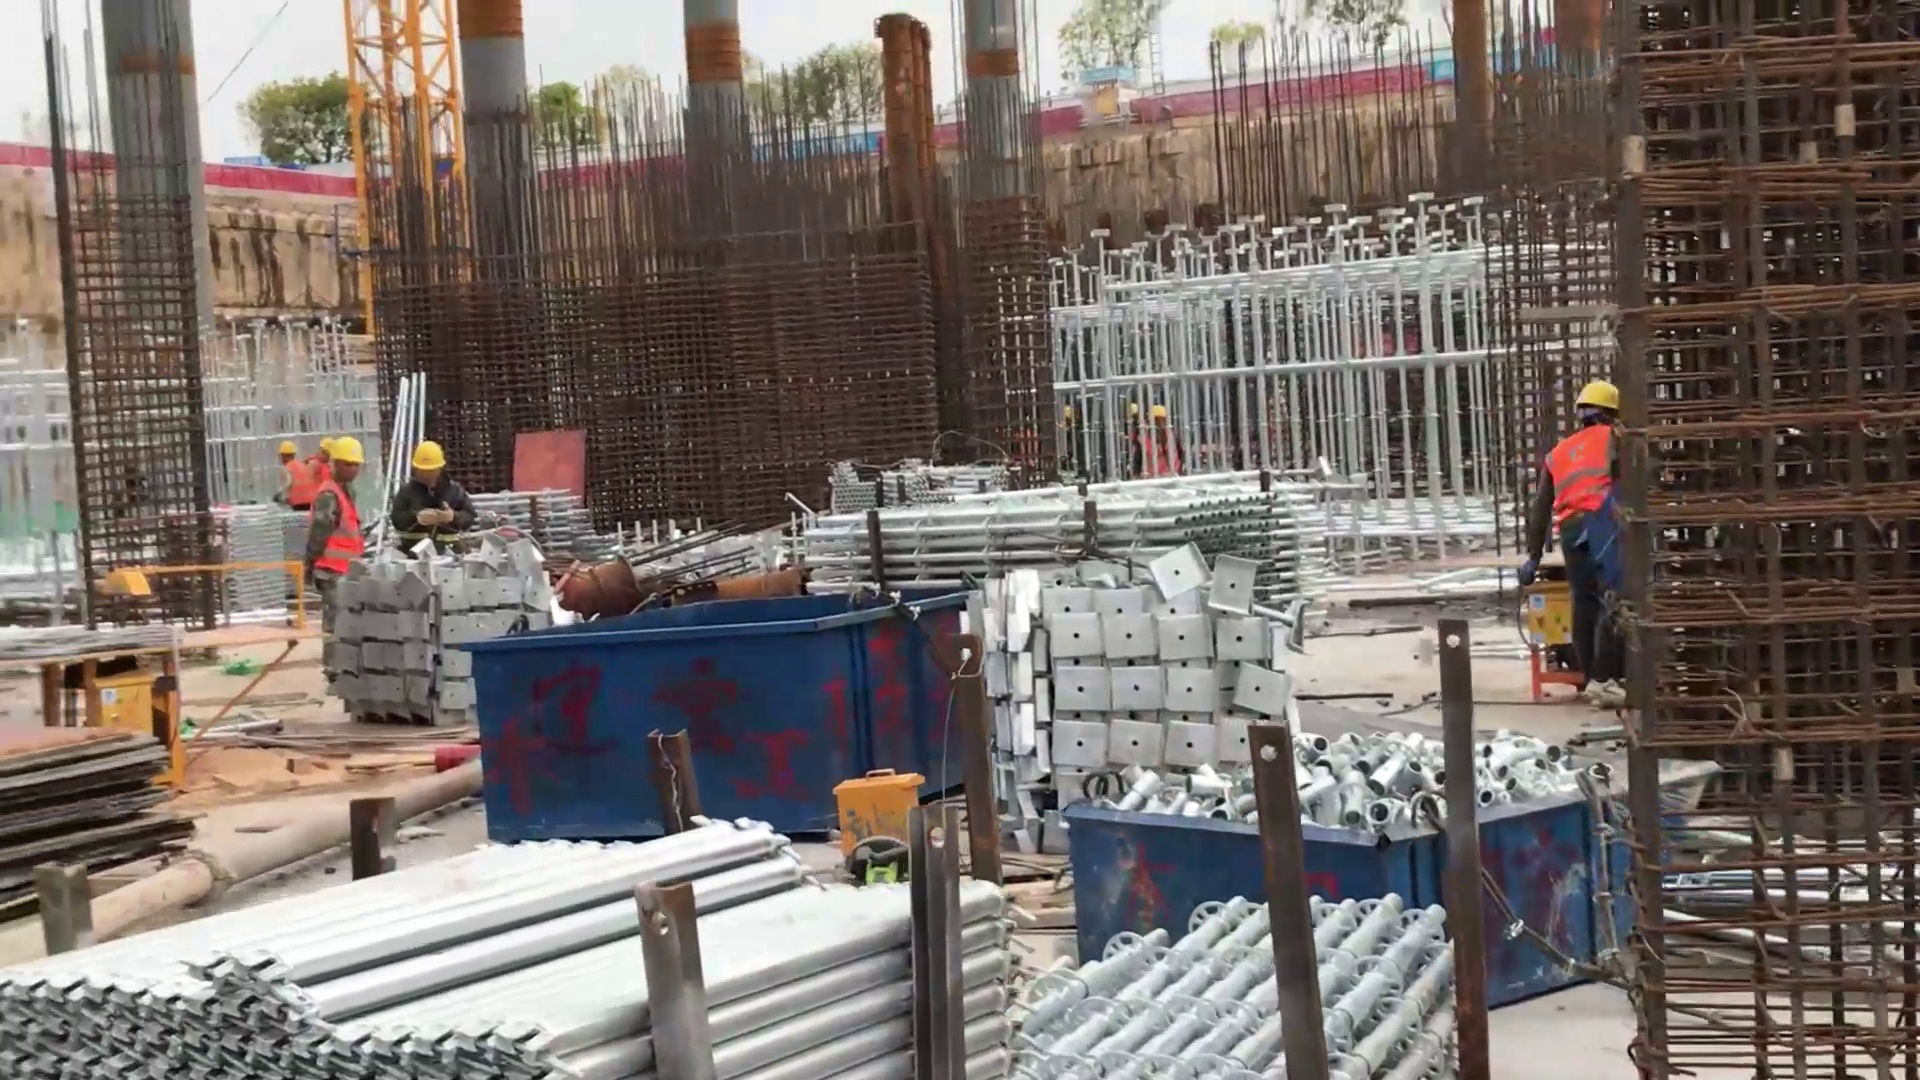cutter: (1, 602, 281, 806)
ebox: (829, 755, 934, 862)
helmet: (1573, 379, 1624, 413), (404, 436, 446, 473), (328, 435, 370, 468), (276, 437, 299, 460), (318, 436, 338, 459)
hopper: (441, 593, 1003, 859), (1065, 793, 1648, 1009)
person: (1517, 361, 1638, 707), (298, 432, 388, 634), (385, 432, 487, 561), (268, 435, 315, 523), (303, 434, 342, 492)
scaffold: (3, 812, 1036, 1080), (1035, 867, 1474, 1080), (805, 455, 1315, 617), (484, 476, 619, 559)
vest: (1537, 422, 1618, 520), (308, 480, 369, 576), (282, 461, 313, 515), (308, 452, 334, 488)
